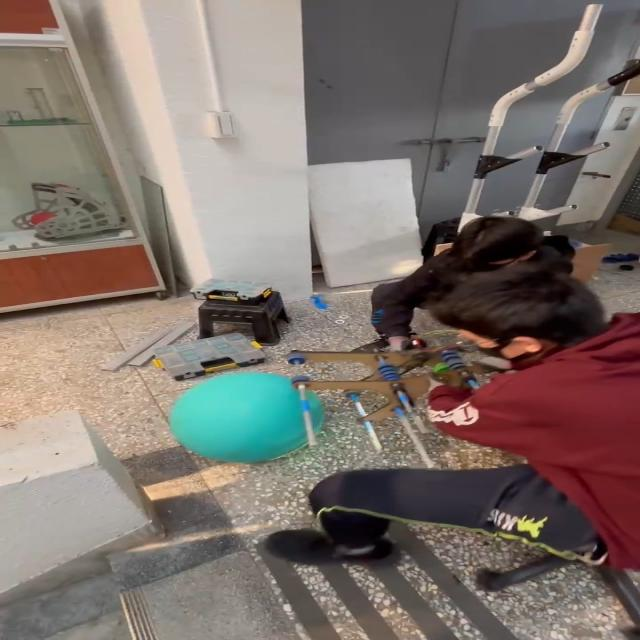ALGAE: (166, 370, 326, 464)
